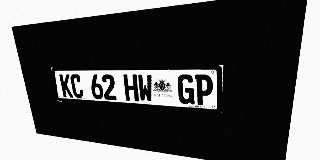2: (101, 74, 117, 100)
6: (89, 74, 104, 99)
C: (70, 74, 84, 98)
G: (177, 74, 194, 105)
H: (123, 74, 139, 101)
K: (59, 74, 73, 98)
P: (195, 74, 213, 106)
W: (137, 74, 153, 102)
